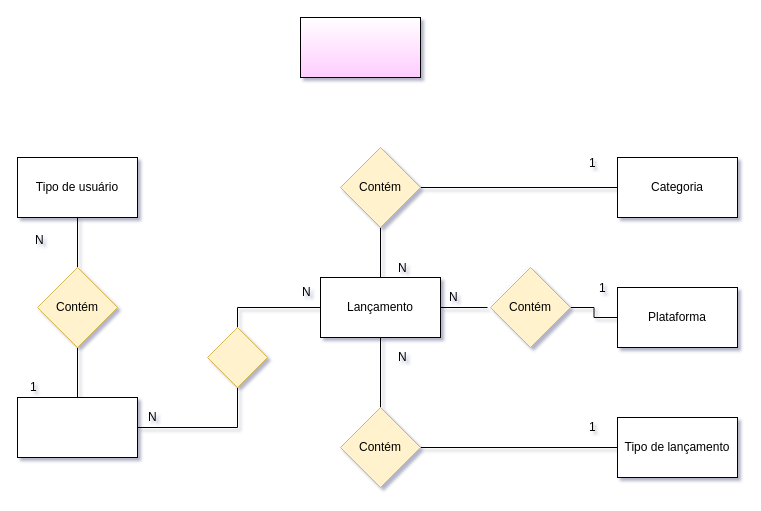
Image size: 761x511. Some labels were removed from this diagram. Here are the shapes that lost their labels. From the top down, the box of each, then its label:
(300, 16, 420, 78): CONCEITUAL
(206, 326, 268, 388): Favorito
(16, 396, 138, 458): Usuário
